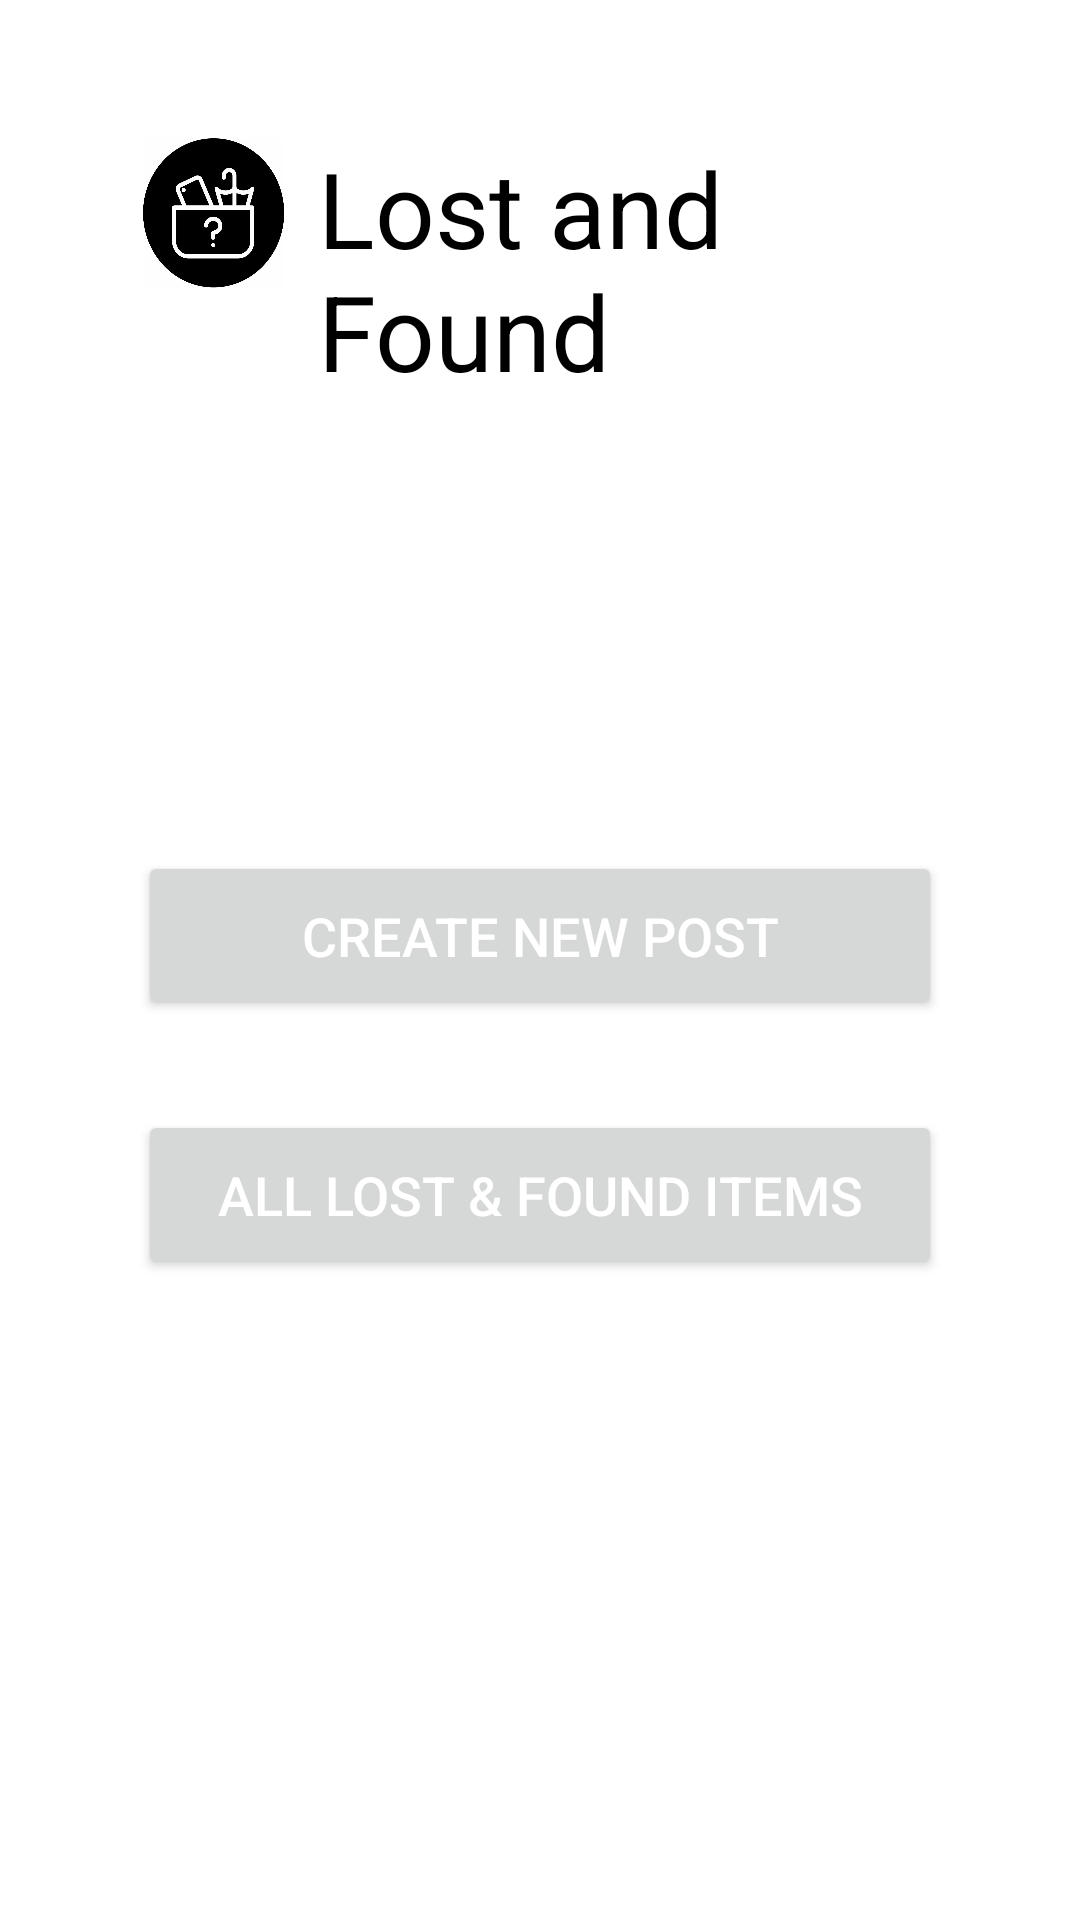

Named icons in this screenshot (1080px x 1920px) and their bounding boxes, (x1, y1, x2, y2):
My App Icon: (143, 138, 284, 288)
